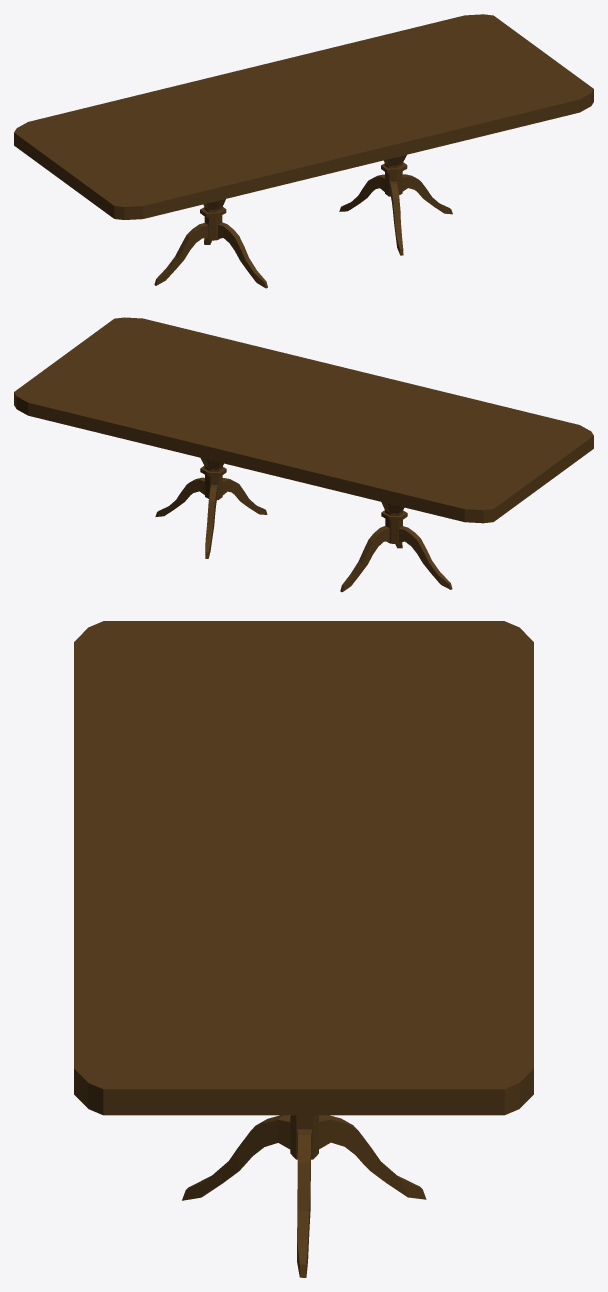
File: table.fbx
The picture shows the model from 3 angles, top to bottom: view 1: azimuth 30°, elevation 25°; view 2: azimuth 150°, elevation 25°; view 3: azimuth 270°, elevation 25°; orthographic projection. The views are drawn at different scales.
Parts seen in each view (by area): view 1: Cube.006; view 2: Cube.006; view 3: Cube.006.
Part boxes in pixels (<box>): Cube.006: <box>14,14,593,288</box>; Cube.006: <box>14,317,593,592</box>; Cube.006: <box>74,621,533,1277</box>.
Size of the model in its own units: 828 by 230 by 344.
